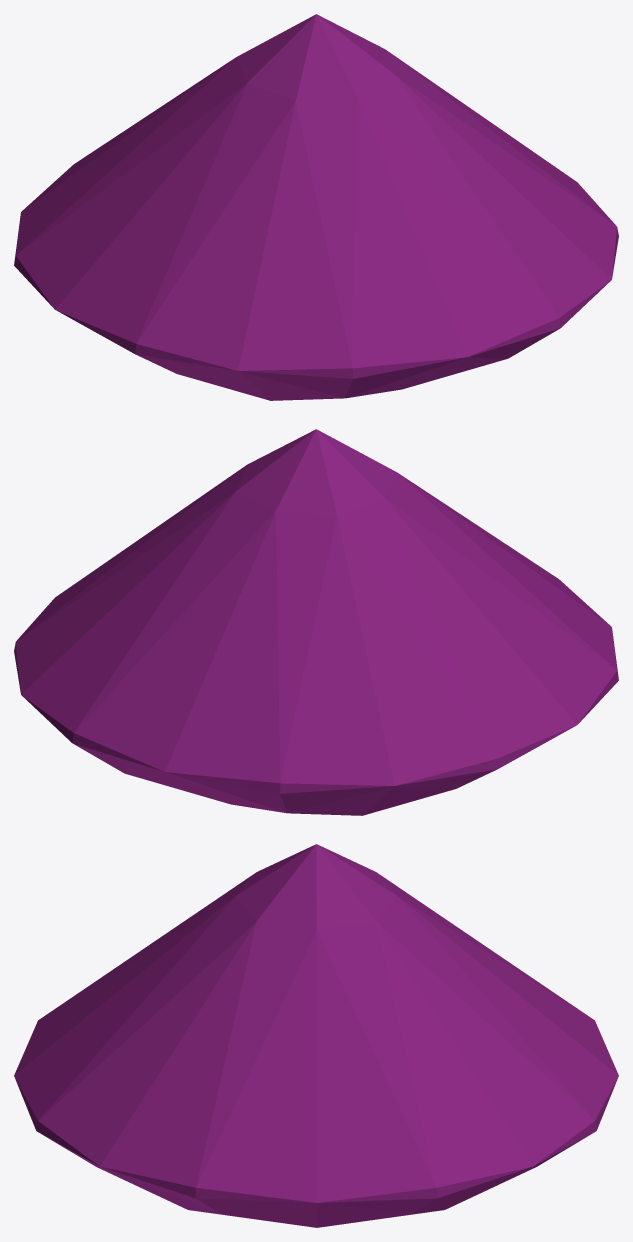
File: Gem010.fbx
3 renders of one model, top to bottom at view 1: azimuth 30°, elevation 25°; view 2: azimuth 150°, elevation 25°; view 3: azimuth 270°, elevation 25°, orthographic.
Parts seen in each view (by area): view 1: Gem010; view 2: Gem010; view 3: Gem010.
Part boxes in pixels (box(x1,y1,x2,y2)): Gem010: box(14, 14, 618, 400); Gem010: box(14, 429, 618, 815); Gem010: box(14, 844, 618, 1227).
Size of the model in its own units: 248 by 156 by 249.
